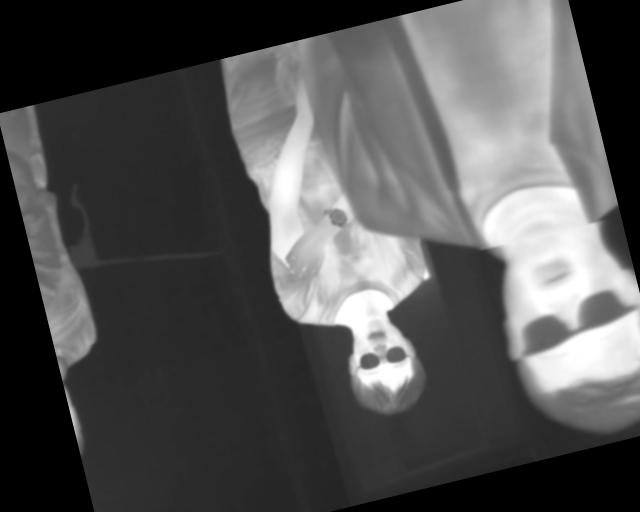face: (479, 207, 640, 454), (336, 307, 432, 423)
